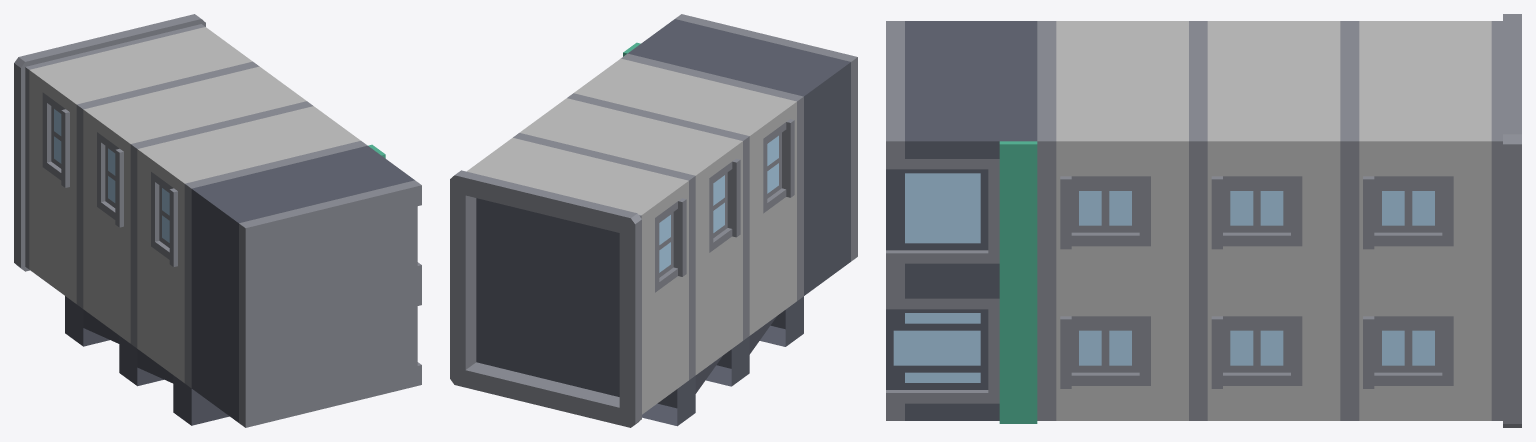
Rendered from building5_left.glb.
3 views of the same model, side by side, from view 1: azimuth 30°, elevation 25°; view 2: azimuth 150°, elevation 25°; view 3: azimuth 270°, elevation 25° (orthographic). The views are drawn at different scales.
Visible parts, largest first — view 1: large_buildingC; view 2: large_buildingC; view 3: large_buildingC.
Part boxes in pixels (x1,y1,x2,y2): large_buildingC: (14,14,421,427); large_buildingC: (450,14,857,427); large_buildingC: (886,14,1521,427).
Bounding box in the file's own units: 8 × 10 × 17.
